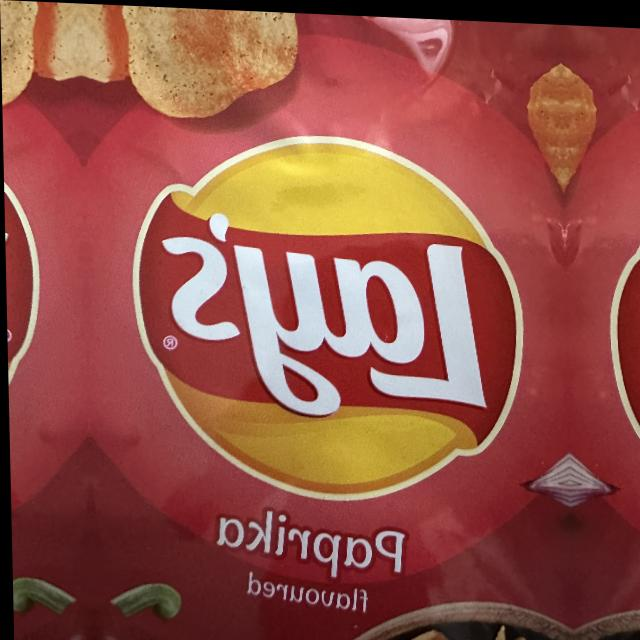lays: (133, 135, 522, 498)
